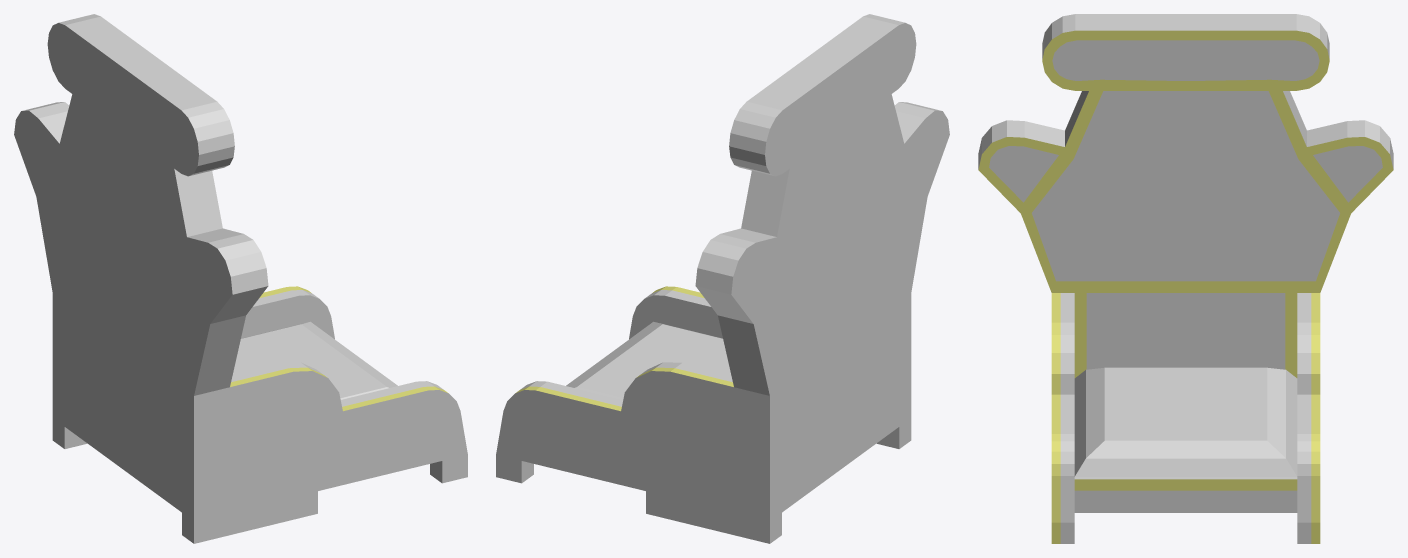
File: Tron_TR.fbx
3 renders of one model, left to right at view 1: azimuth 30°, elevation 25°; view 2: azimuth 150°, elevation 25°; view 3: azimuth 270°, elevation 25°, orthographic. The views are drawn at different scales.
Visible parts, largest first — view 1: Tron_TR; view 2: Tron_TR; view 3: Tron_TR.
Boxes of the visible parts, <box> form: Tron_TR: <box>14,14,467,543</box>; Tron_TR: <box>496,14,949,543</box>; Tron_TR: <box>978,14,1393,543</box>.
Size of the model in its own units: 4.38 by 6.48 by 6.05.
